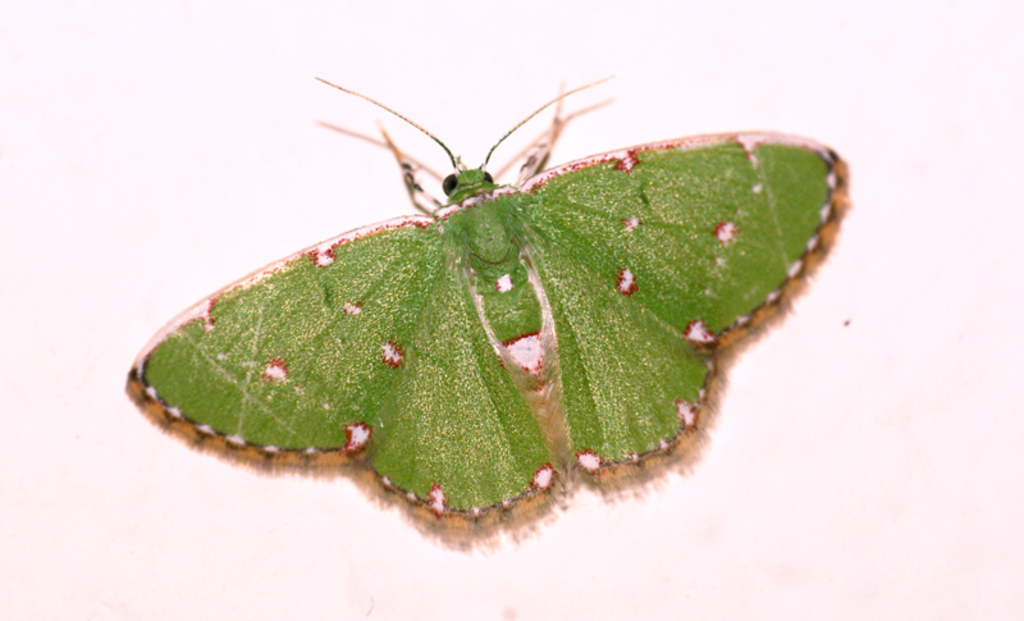Butterfly: (95, 67, 863, 568)
